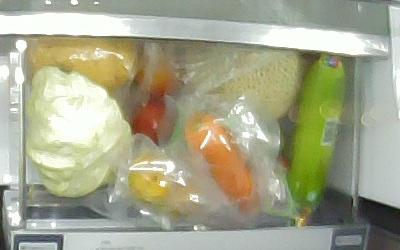cabbage_vinyl: (25, 65, 132, 198)
carrot_vinyl: (184, 112, 260, 216)
melon_vinyl: (186, 47, 300, 121)
pear_vinyl: (26, 37, 137, 91)
prune_vinyl: (133, 99, 178, 149), (132, 56, 178, 98)
tangerine_vinyl: (130, 152, 173, 205)
zucchini: (285, 54, 345, 227)
